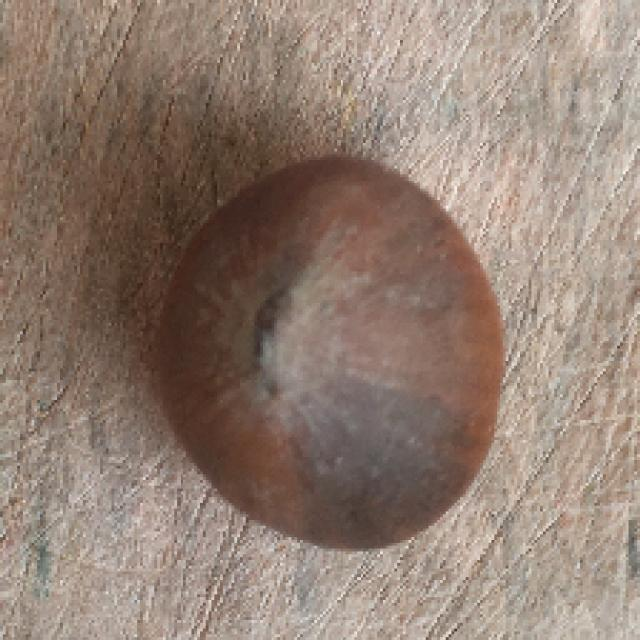damagedHazelnut: (135, 146, 510, 557)
